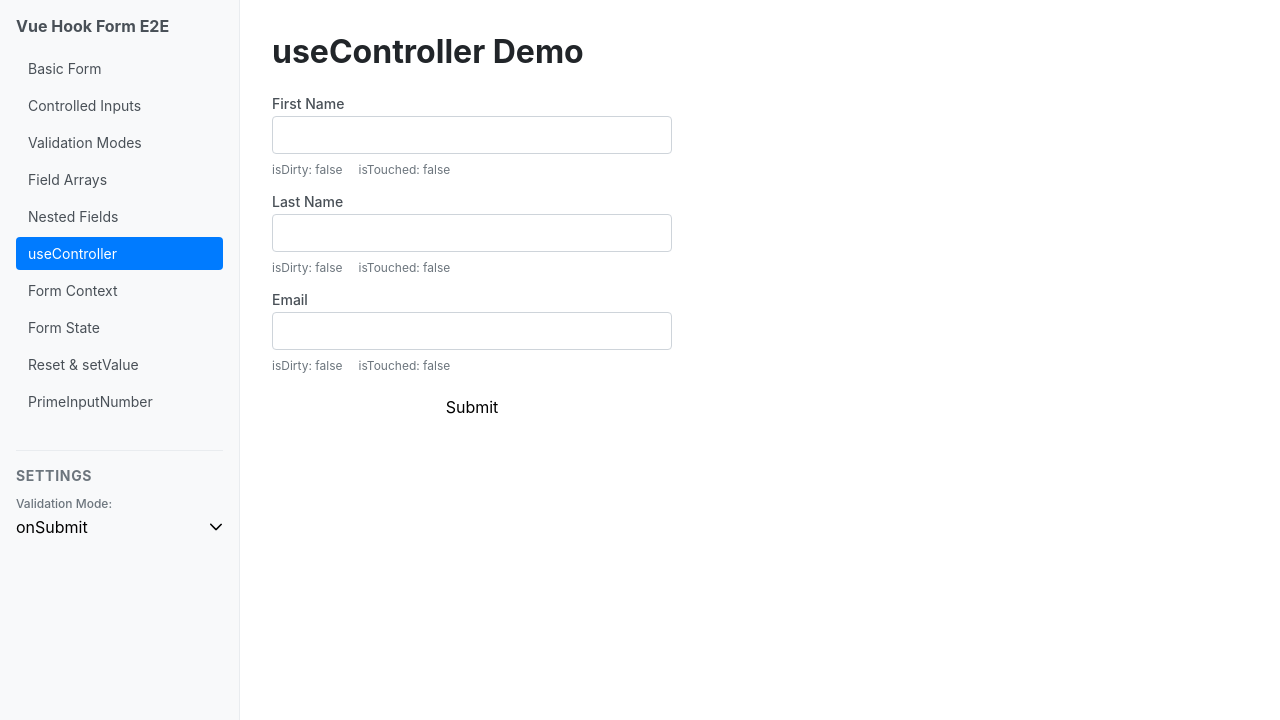
it: useController › should submit successfully with valid data
This screenshot has width=1280, height=720.
In the field with test id "firstname-input": (472, 135) [272,116,672,154], type "Alice"
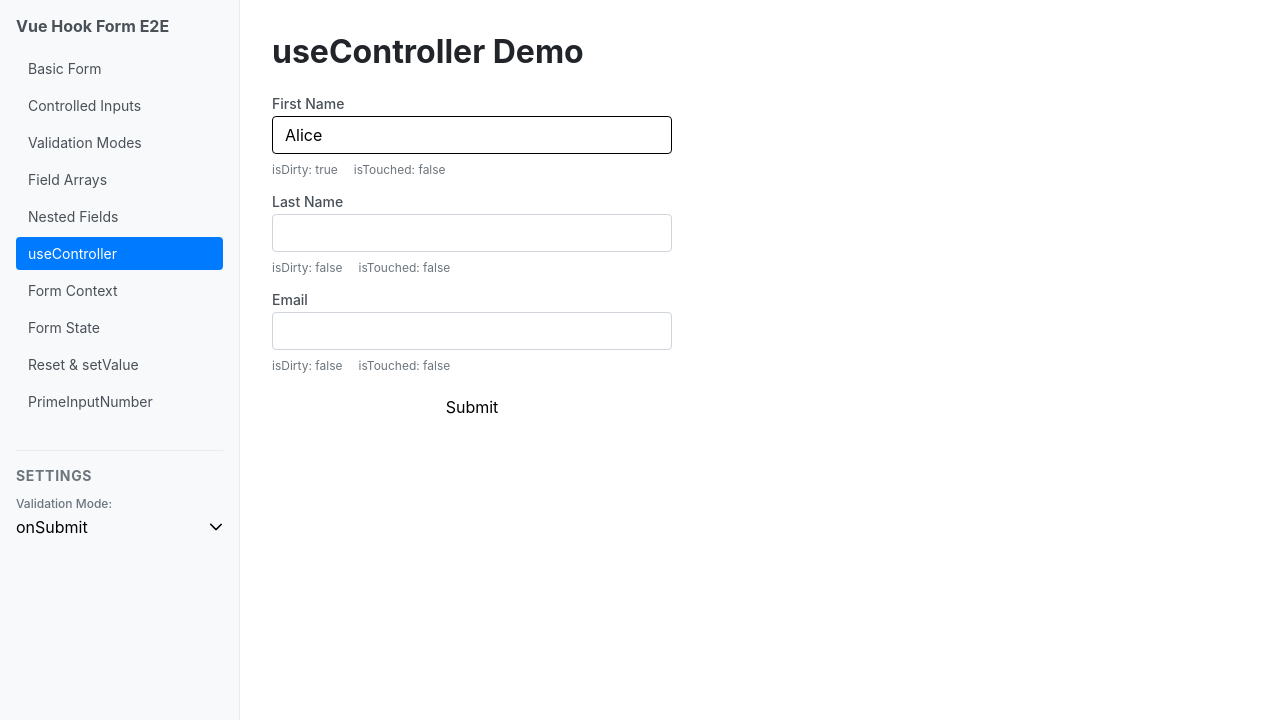
In the field with test id "lastname-input": (472, 233) [272,214,672,252], type "Wonder"
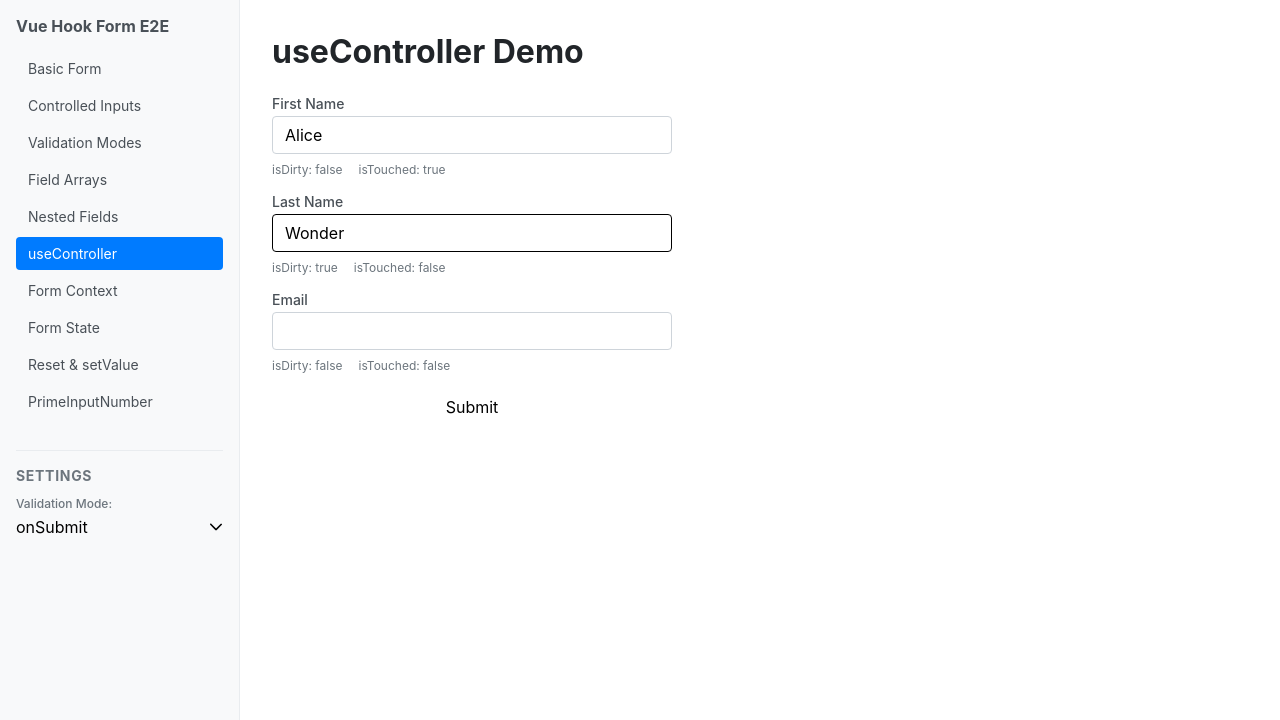
In the field with test id "email-input": (472, 331) [272,312,672,350], type "alice@example.com"
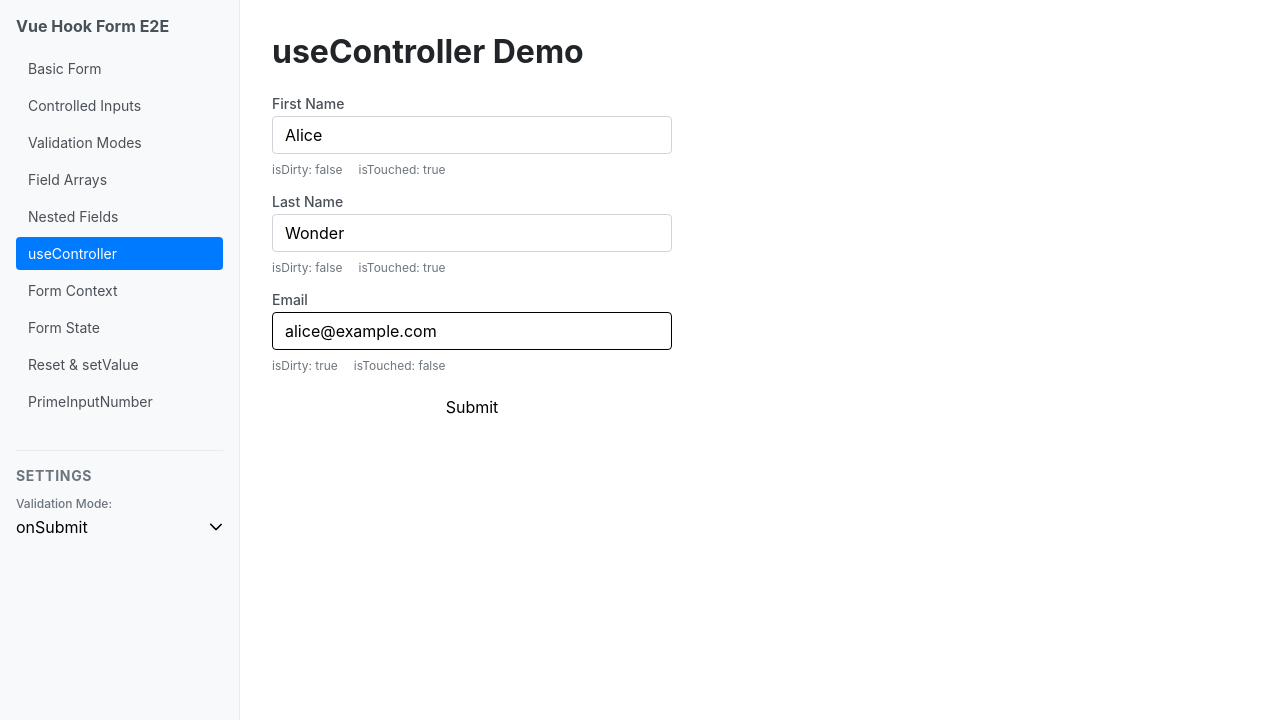
Click the button with test id "submit-button": (472, 407) [272,397,672,417]
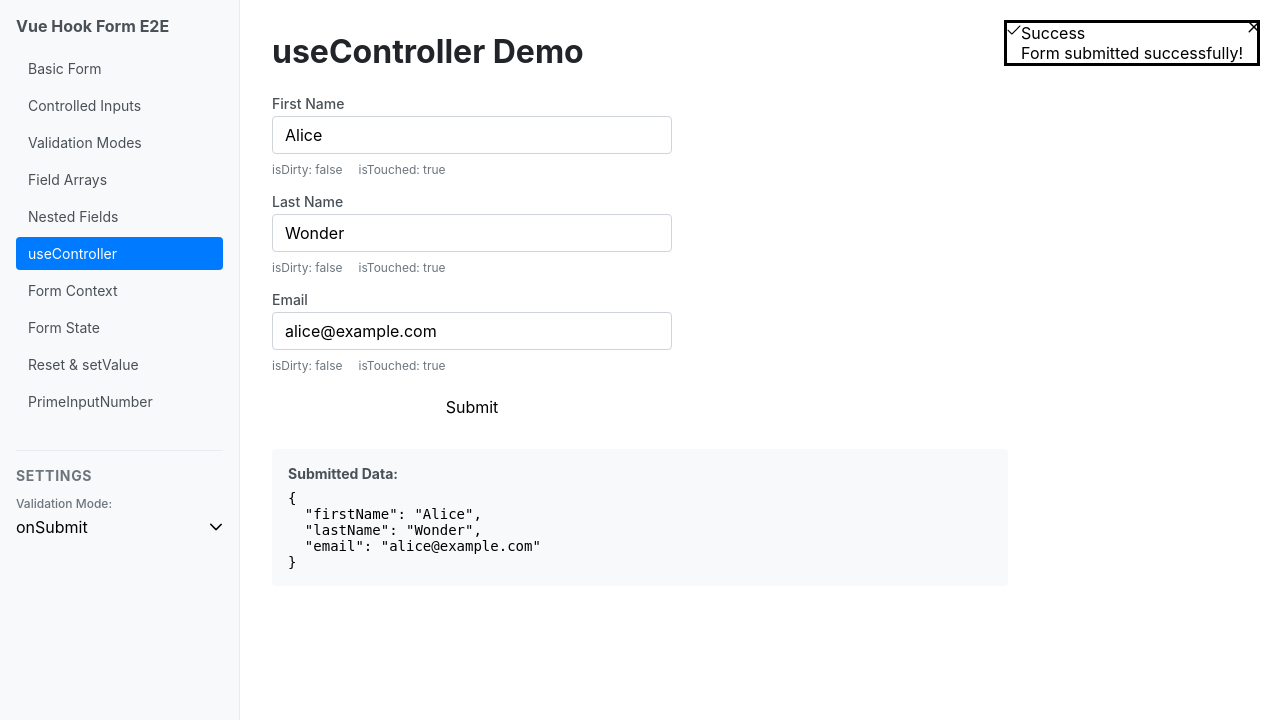
Result: the text with test id "submitted-data" shows "Alice" at [288,490,541,570]
Result: the text with test id "submitted-data" shows "Wonder" at [288,490,541,570]
Result: the text with test id "submitted-data" shows "alice@example.com" at [288,490,541,570]
